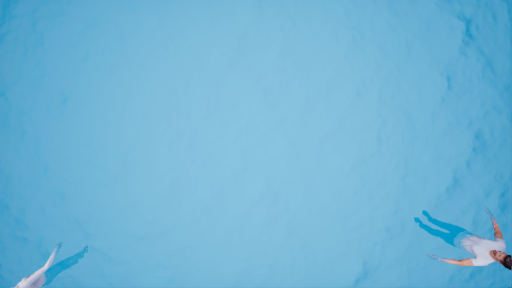person: (418, 202, 512, 271)
